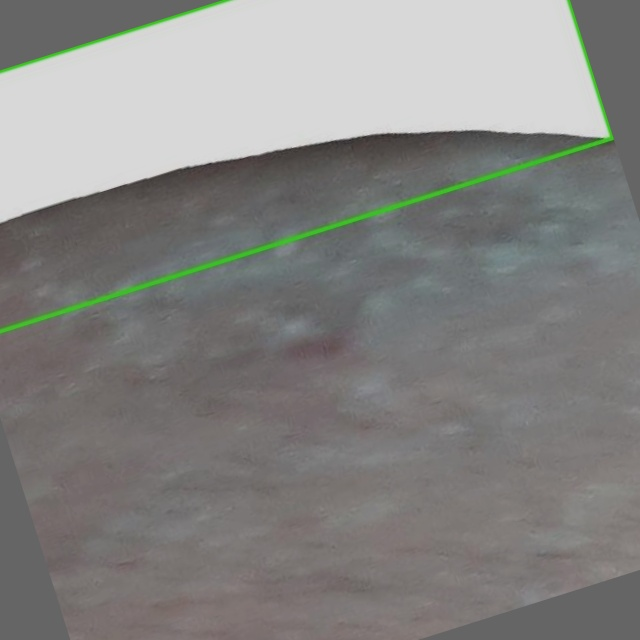Tinea Corporis: (0, 0, 612, 331)
